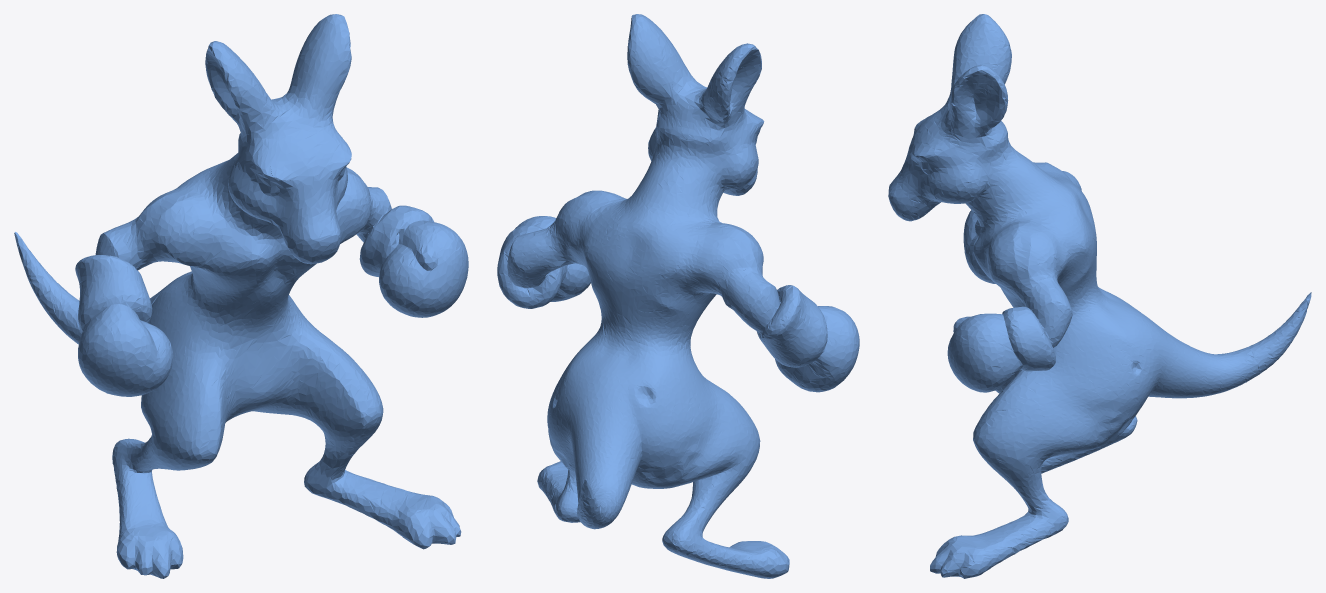
The model's file is animated_mesh.glb.
3 renders of one model, left to right at view 1: azimuth 30°, elevation 25°; view 2: azimuth 150°, elevation 25°; view 3: azimuth 270°, elevation 25°, orthographic. The views are drawn at different scales.
Parts seen in each view (by area): view 1: AnimatedMesh; view 2: AnimatedMesh; view 3: AnimatedMesh.
Boxes of the visible parts, bbox=[...] form: AnimatedMesh: bbox=[14, 14, 468, 578]; AnimatedMesh: bbox=[497, 14, 859, 578]; AnimatedMesh: bbox=[888, 14, 1311, 578].
Bounding box in the file's own units: 1.37 × 1.87 × 1.52.
